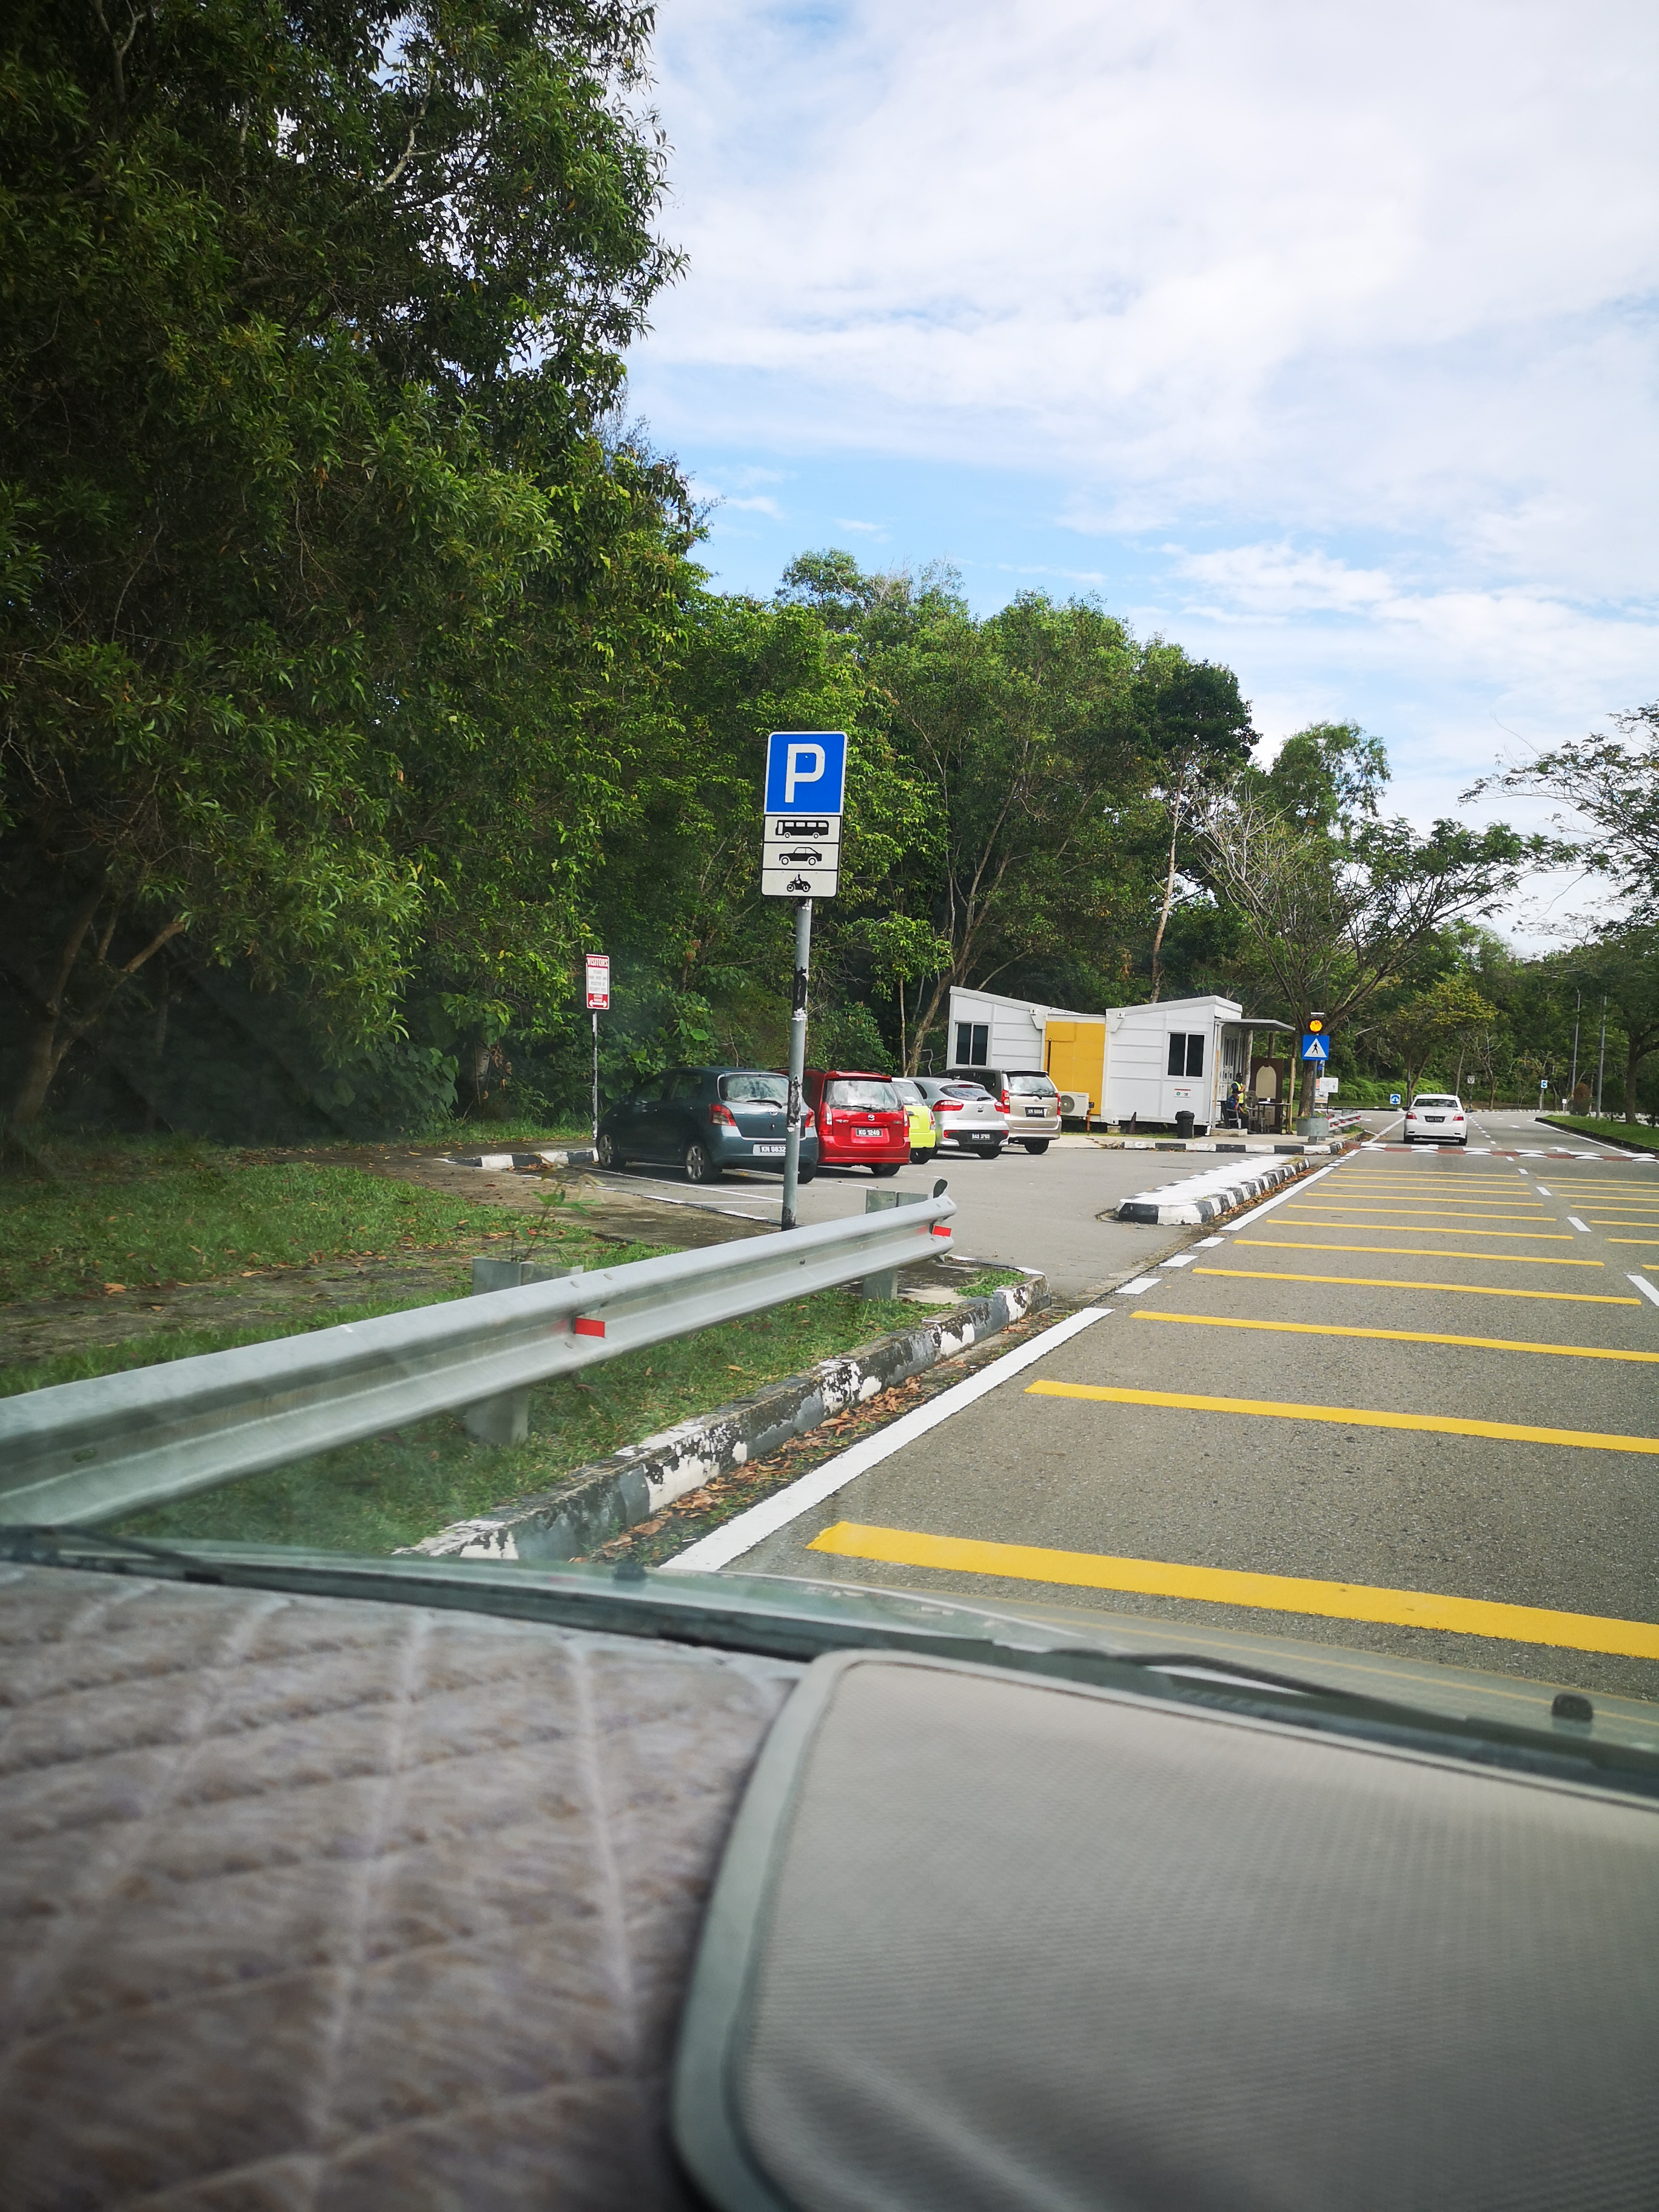parking: (765, 721, 849, 813)
pedestrian crossing: (1297, 1029, 1331, 1064)
